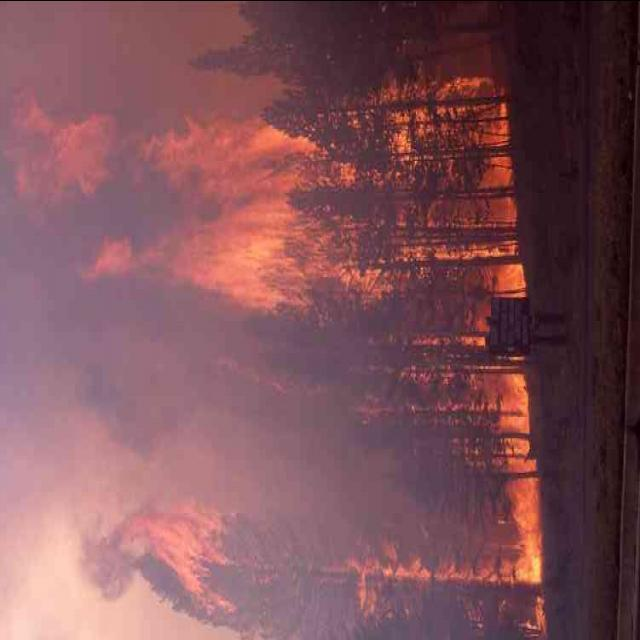Fire: (23, 82, 510, 302), (129, 491, 231, 618), (495, 364, 542, 582)
